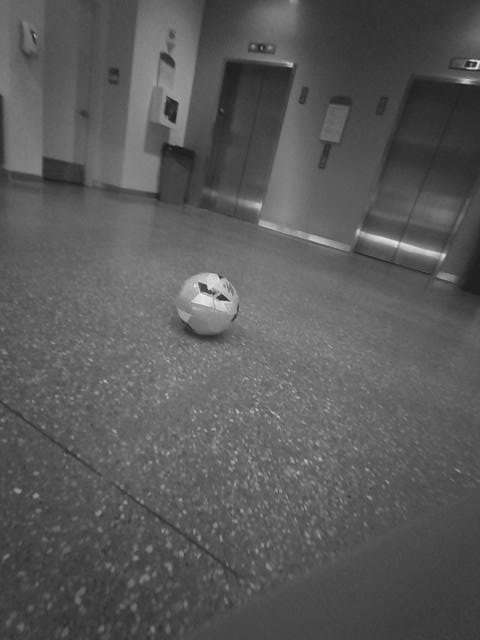ball: (171, 268, 248, 342)
